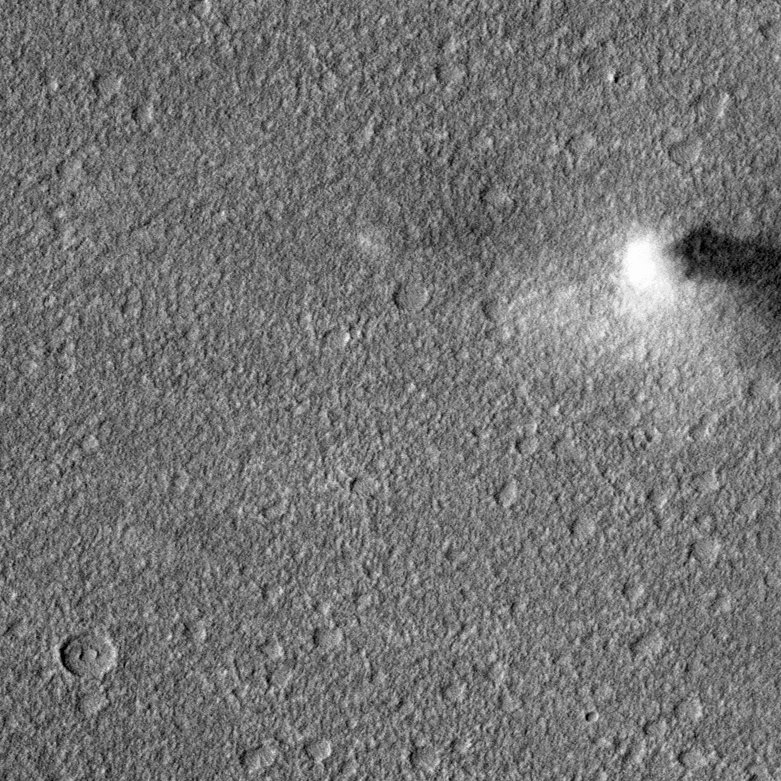dust_devil: (617, 220, 781, 312)
